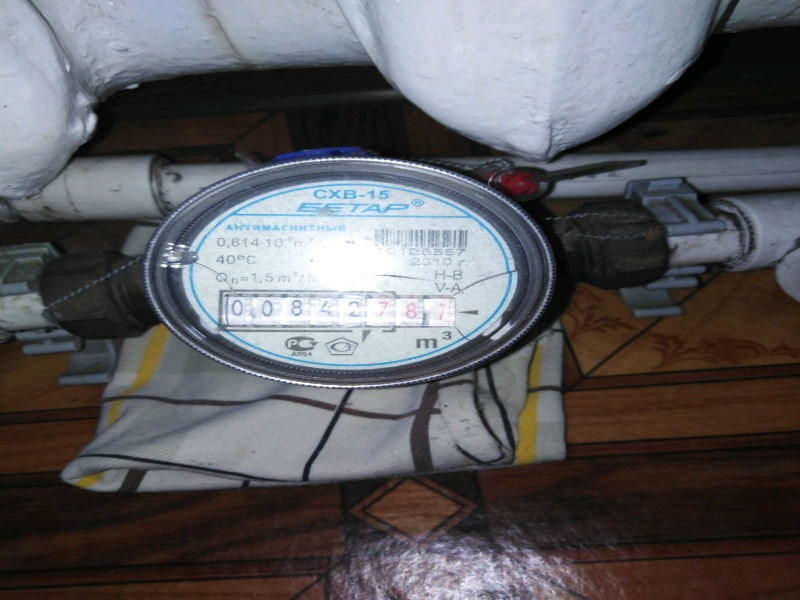meter: (218, 296, 459, 328)
